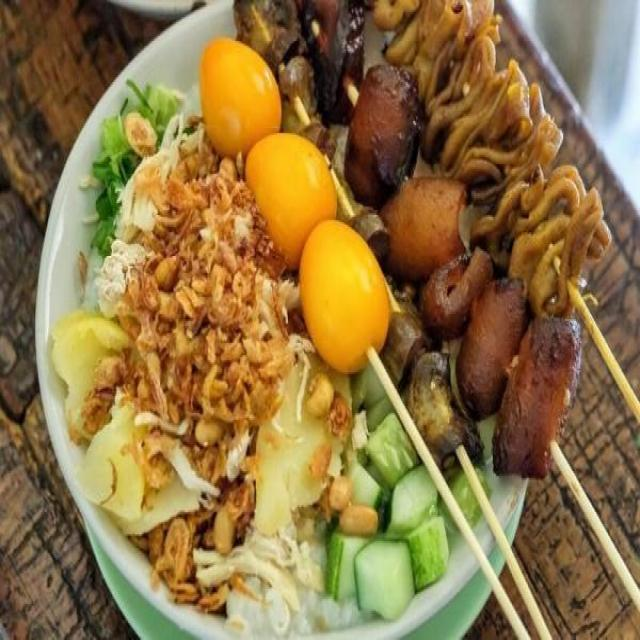bubur ayam: (94, 46, 488, 638)
mangkuk: (22, 0, 640, 637)
